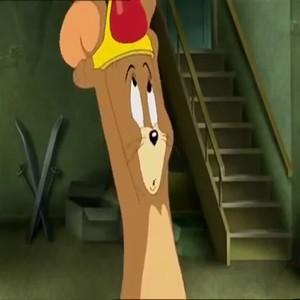Jerry: (65, 1, 187, 294)
